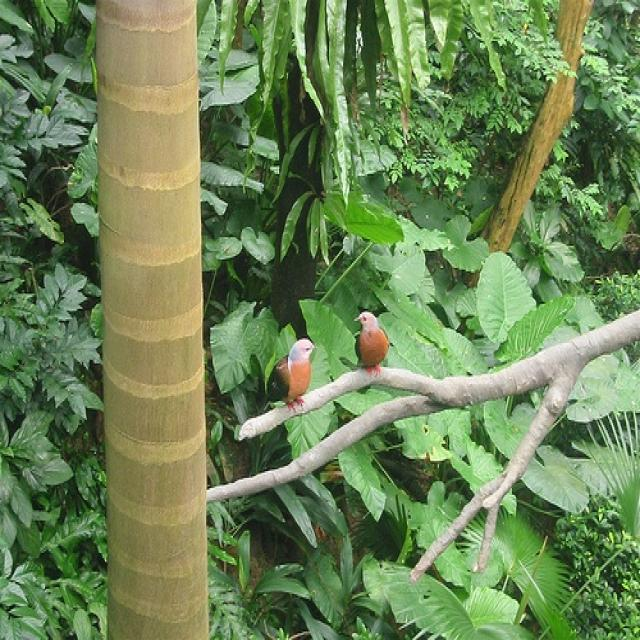bird: (268, 339, 316, 409), (351, 308, 390, 375)
